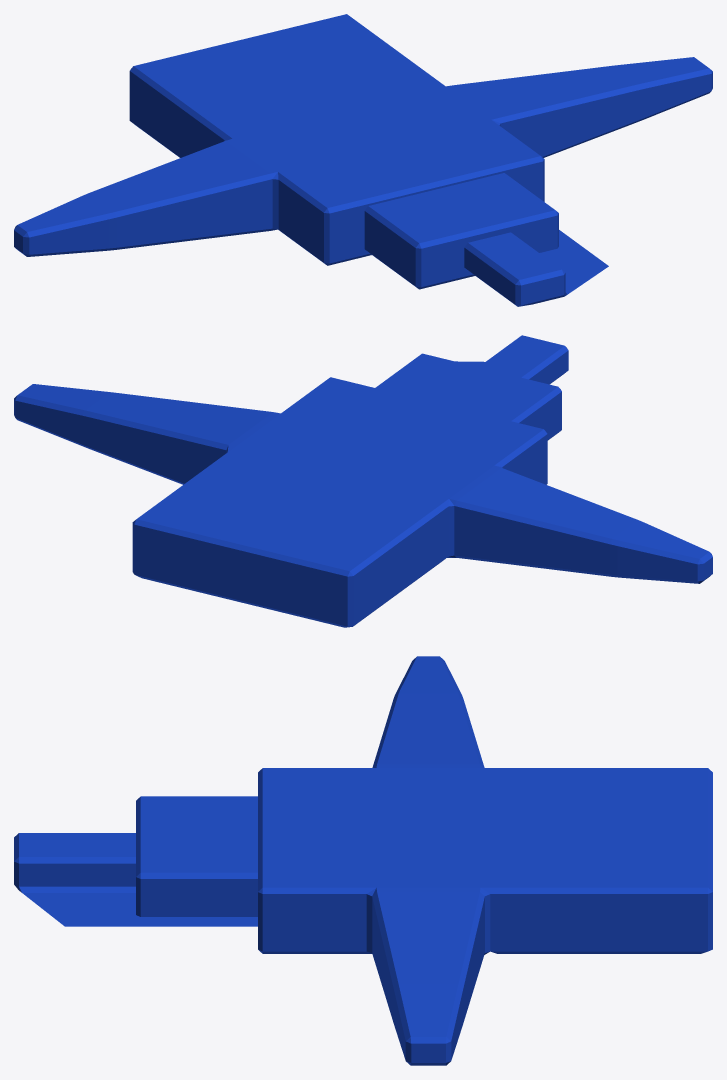
File: nave.obj
3 views of the same model, one above another, from view 1: azimuth 30°, elevation 25°; view 2: azimuth 150°, elevation 25°; view 3: azimuth 270°, elevation 25° (orthographic). The views are drawn at different scales.
Parts seen in each view (by area): view 1: Cube; view 2: Cube; view 3: Cube.
Part boxes in pixels (<box>): Cube: <box>14,14,712,306</box>; Cube: <box>14,335,712,627</box>; Cube: <box>14,656,712,1065</box>.
Bounding box in the file's own units: 11.2 × 0.9 × 8.6.
